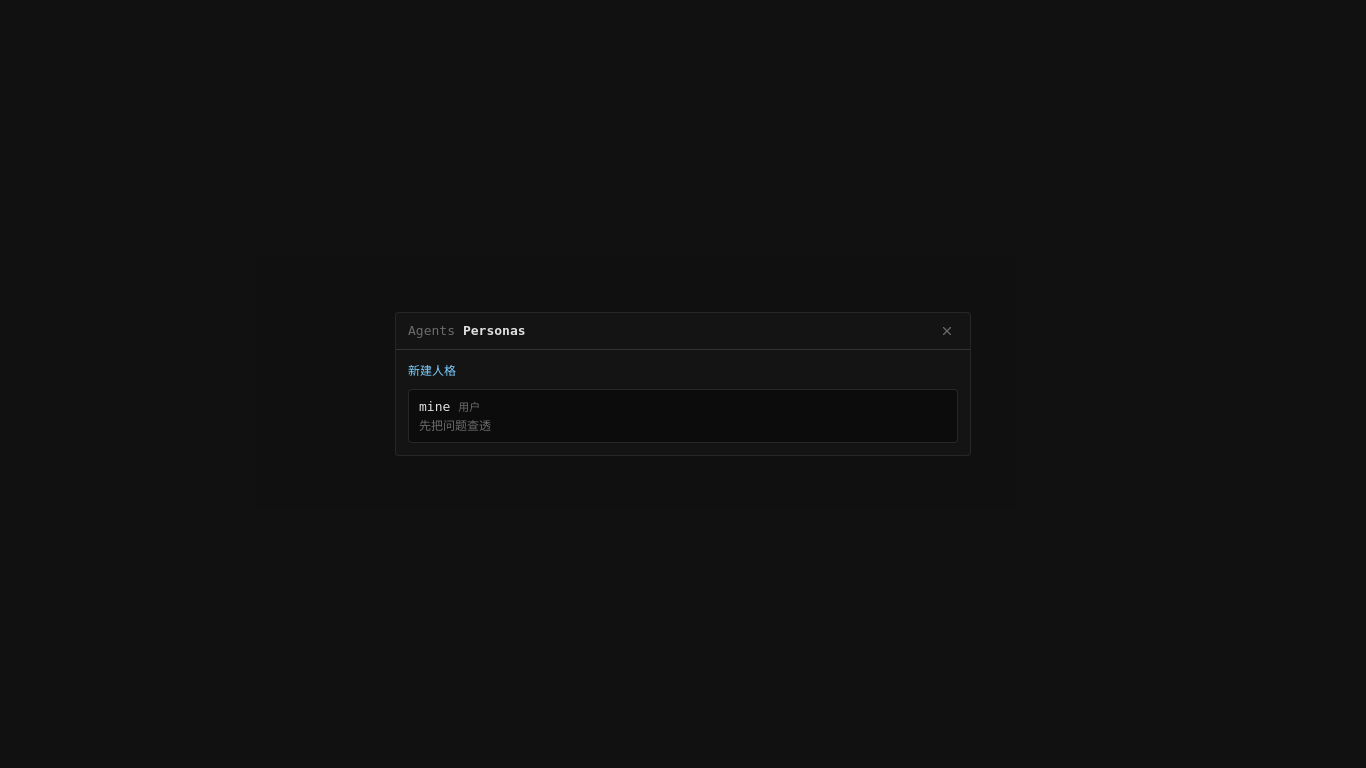
AgentsModal 人格页 › 可删人格：删除要先确认，取消则不发送
The image size is (1366, 768).
Check: the text "mine" is shown, box [419,399,450,414]
Step 1. Click the button "mine" → x=435, y=406, box [408,389,958,443]
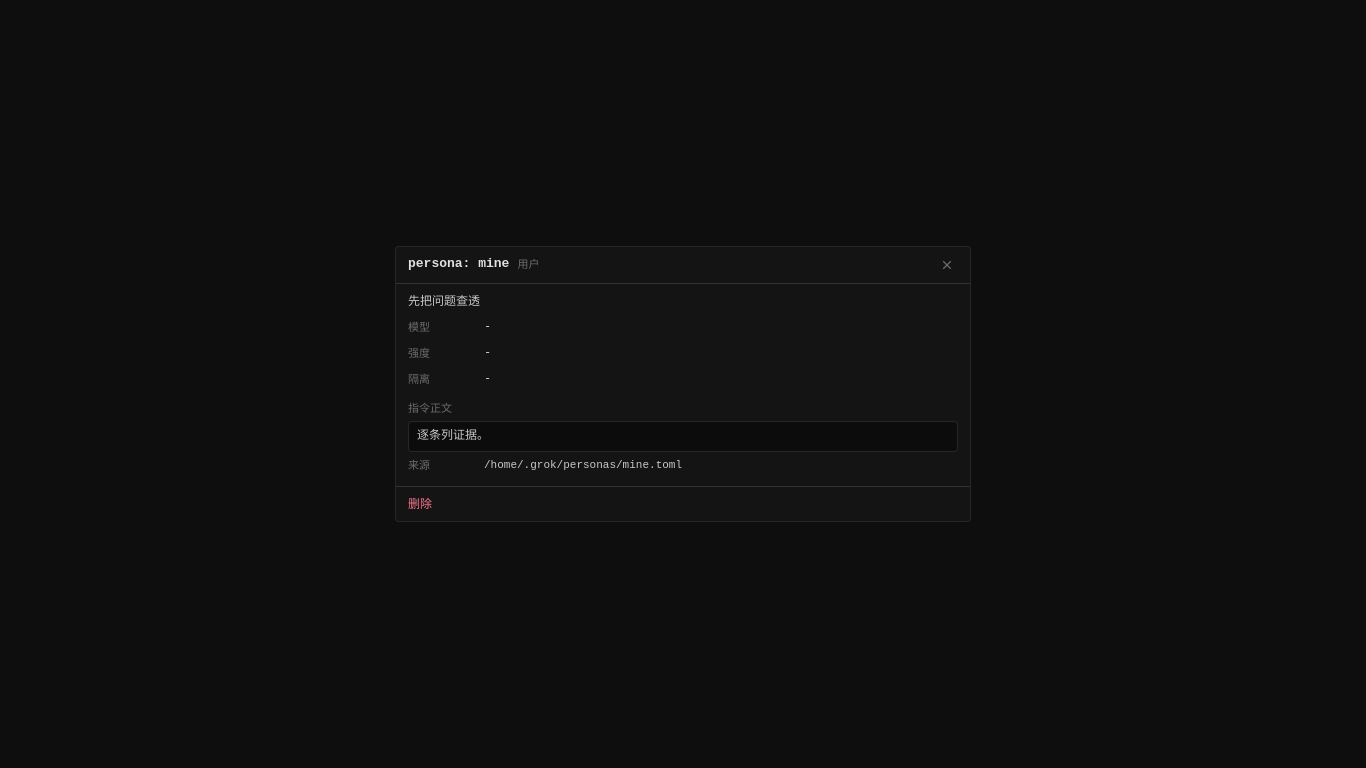
Step 2. Click the button "删除" → x=420, y=504, box [408,495,432,514]
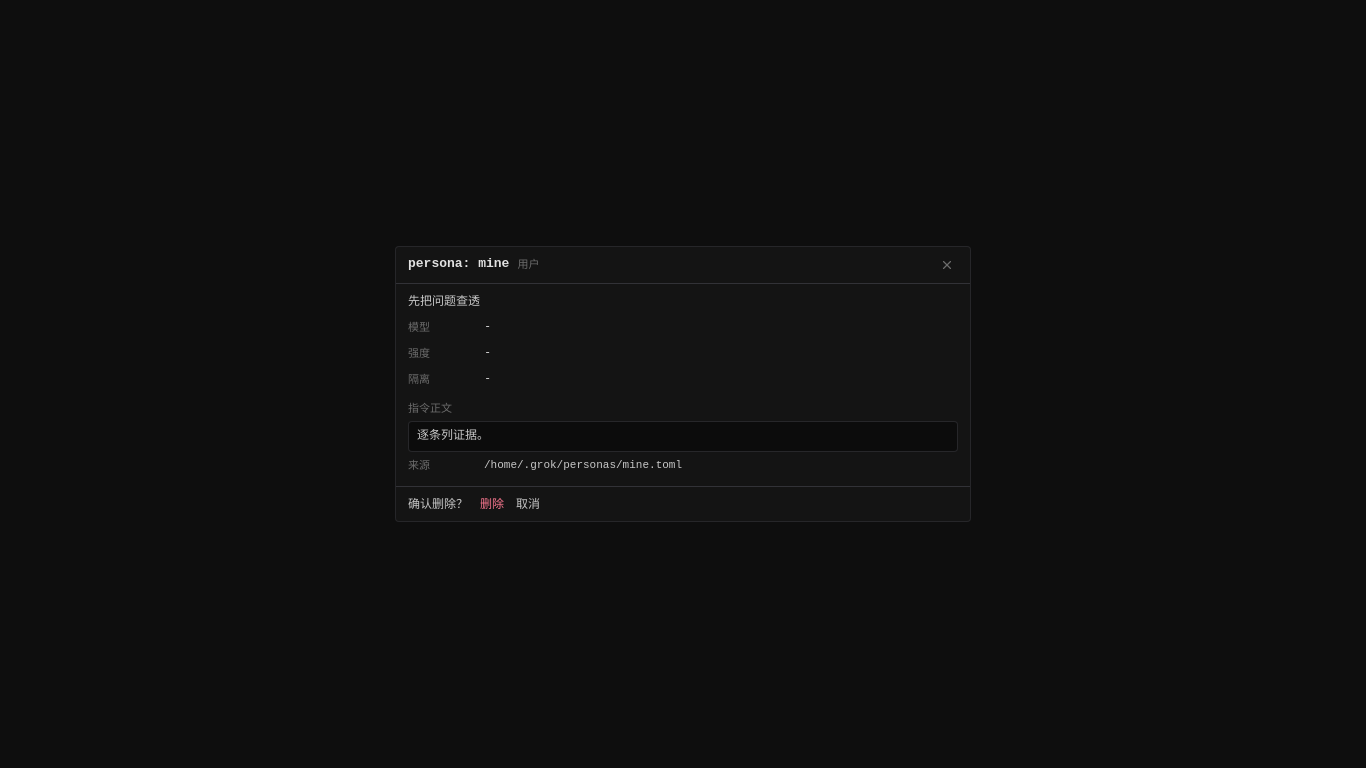
Check: the text "确认删除？" is shown, box [408,495,468,514]
Step 3. Click the button "取消" → x=528, y=504, box [516,495,540,514]
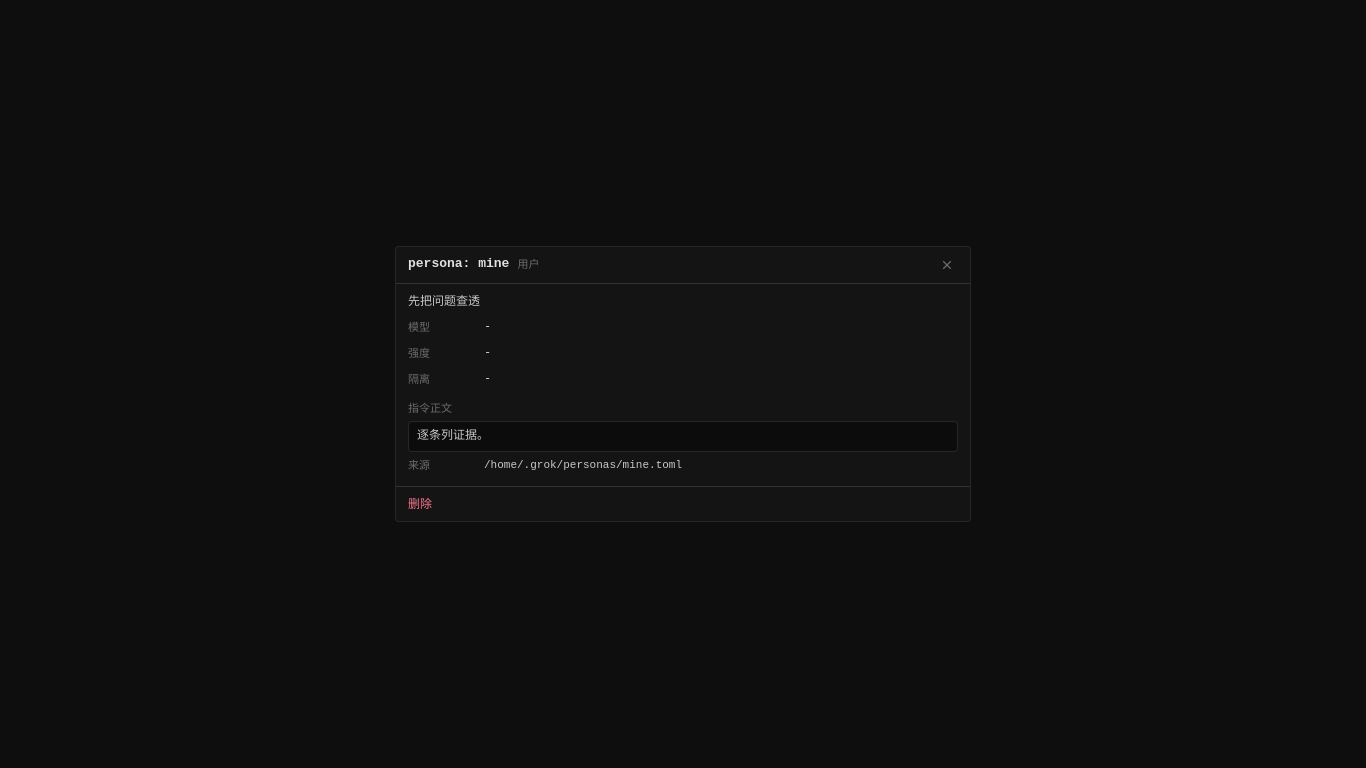
Check: the text "确认删除？" is gone
